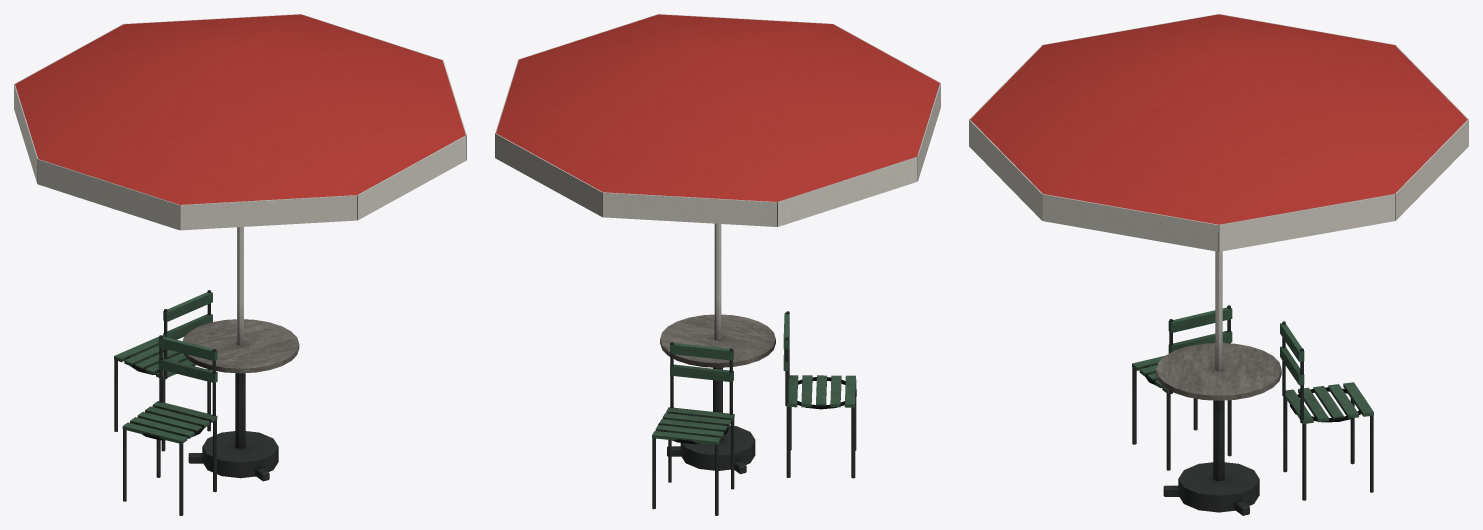
Rendered from cafe_set_red.glb.
3 renders of one model, left to right at view 1: azimuth 30°, elevation 25°; view 2: azimuth 150°, elevation 25°; view 3: azimuth 270°, elevation 25°, orthographic. The views are drawn at different scales.
Parts seen in each view (by area): view 1: cafe_set_red; view 2: cafe_set_red; view 3: cafe_set_red.
Part boxes in pixels (box(x1,y1,x2,y2)): cafe_set_red: box(14, 14, 466, 515); cafe_set_red: box(495, 14, 940, 515); cafe_set_red: box(969, 14, 1468, 515).
Bounding box in the file's own units: 2.71 × 2.62 × 2.71.
1 material, 1 textured.
